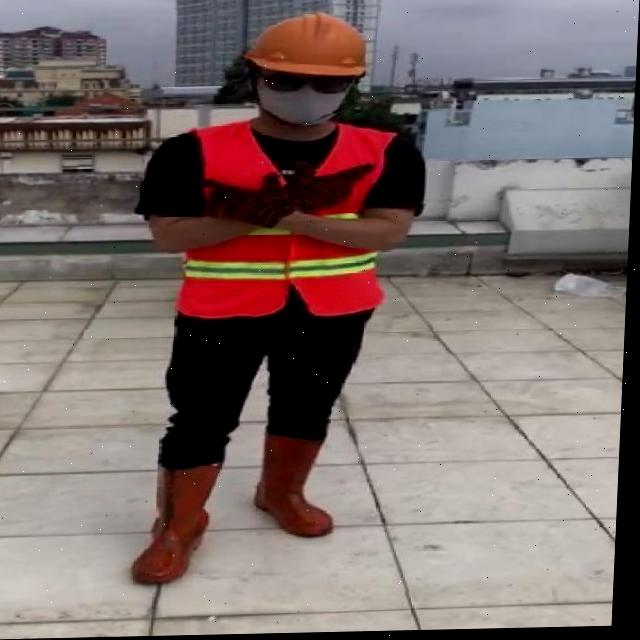Gloves: (198, 160, 379, 232)
Safety-Boot: (136, 459, 228, 585), (258, 427, 344, 540)
Safety-Vest: (180, 118, 401, 322)
